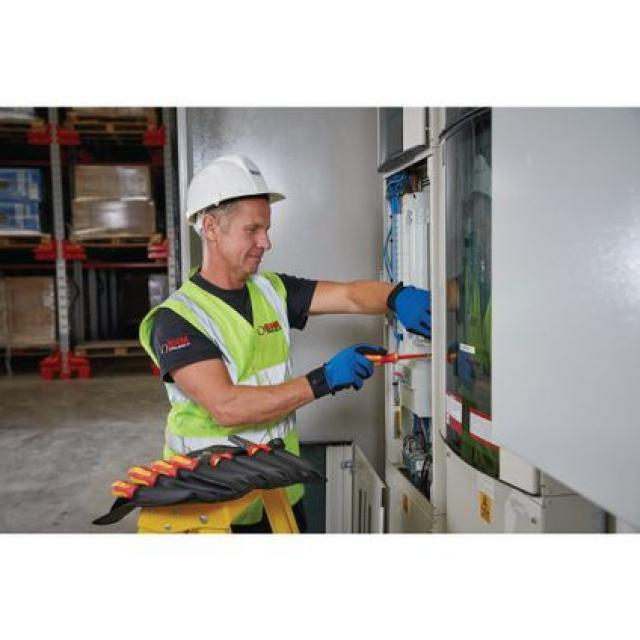screwdriver: (344, 339, 442, 366)
